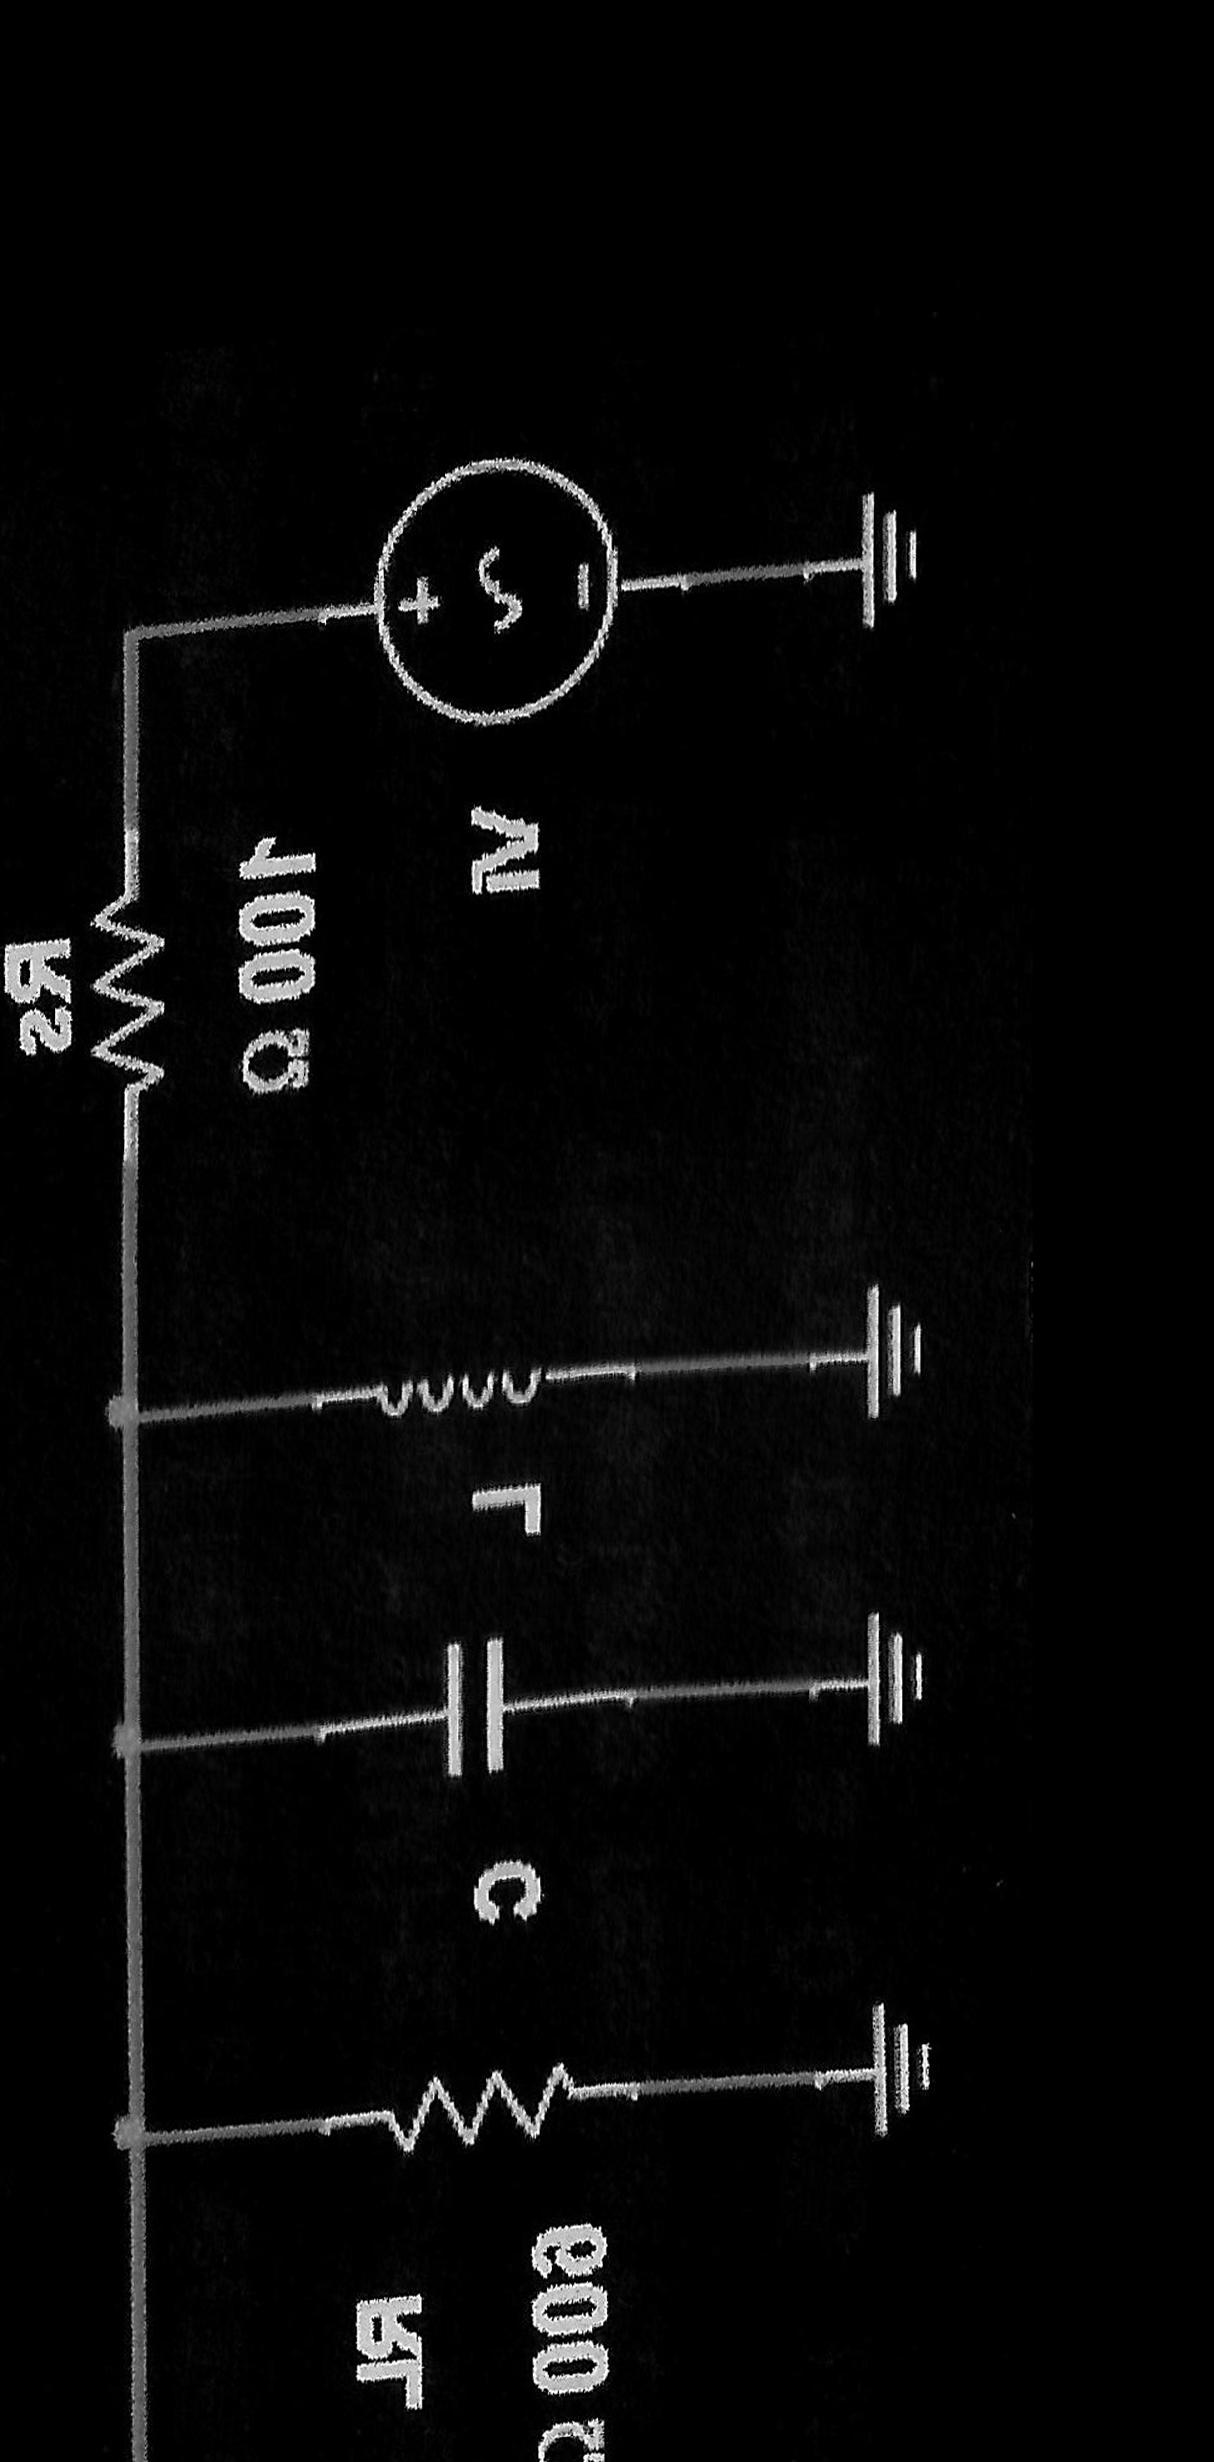Battery: (313, 355, 707, 780)
